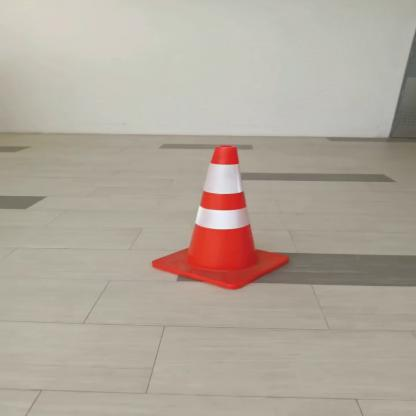cone: (144, 144, 296, 292)
